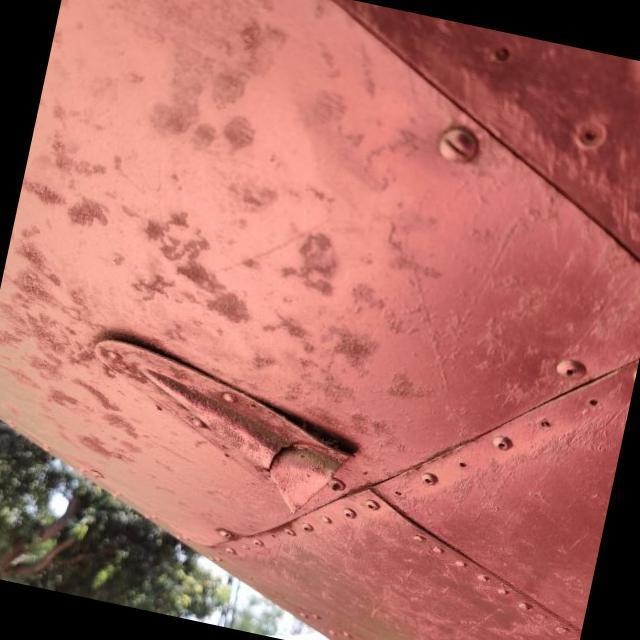Rupture: (248, 423, 314, 496)
